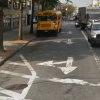Bus: (33, 6, 65, 36)
